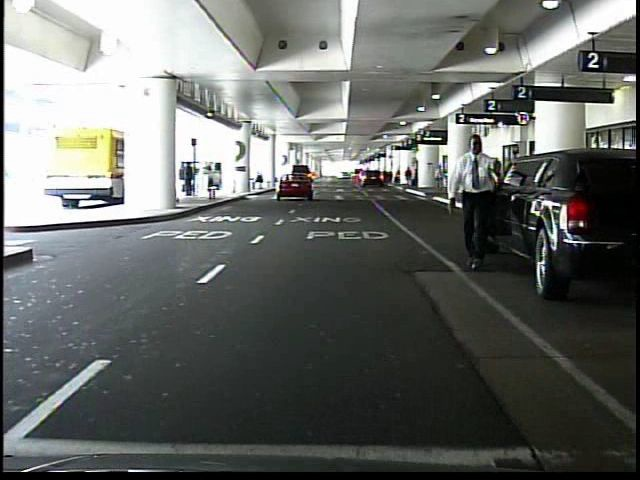person: (456, 127, 508, 280), (183, 160, 197, 197), (432, 165, 446, 192), (405, 167, 414, 189)
